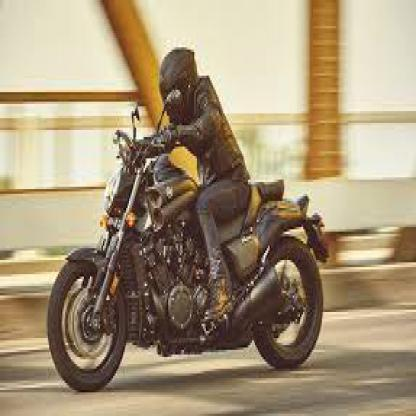Motorcycle: (43, 139, 332, 380)
